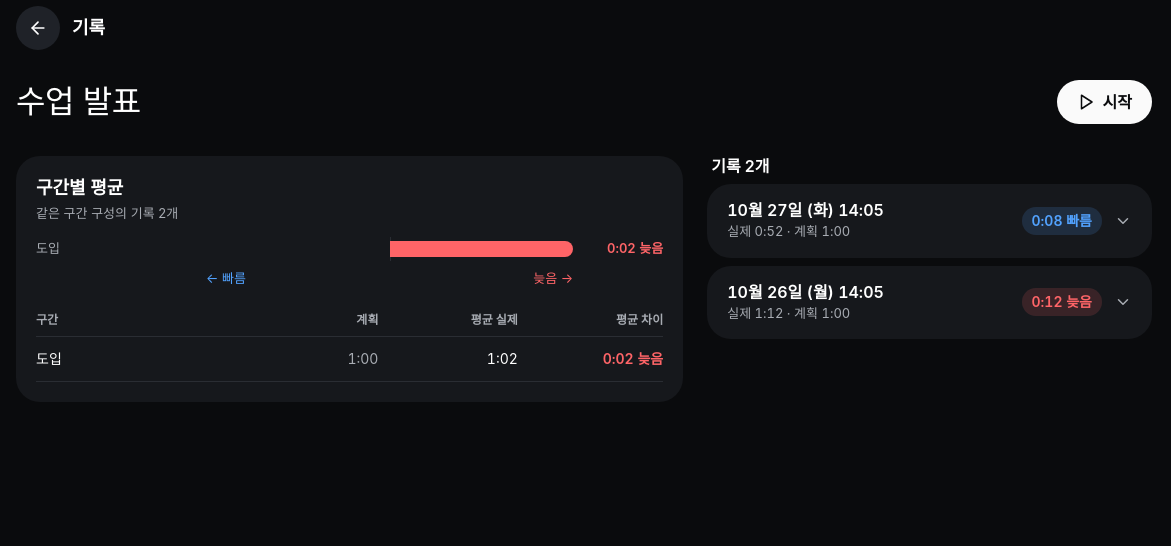
RecordsView › lists newest first with totals and the whole-run verdict, expanding one record in place
Click the button "10월 27일 (화) 14:05 실제 0:52 · 계획 1:00 0:08 빠름" at point(806, 210), box [707,184,1152,258]
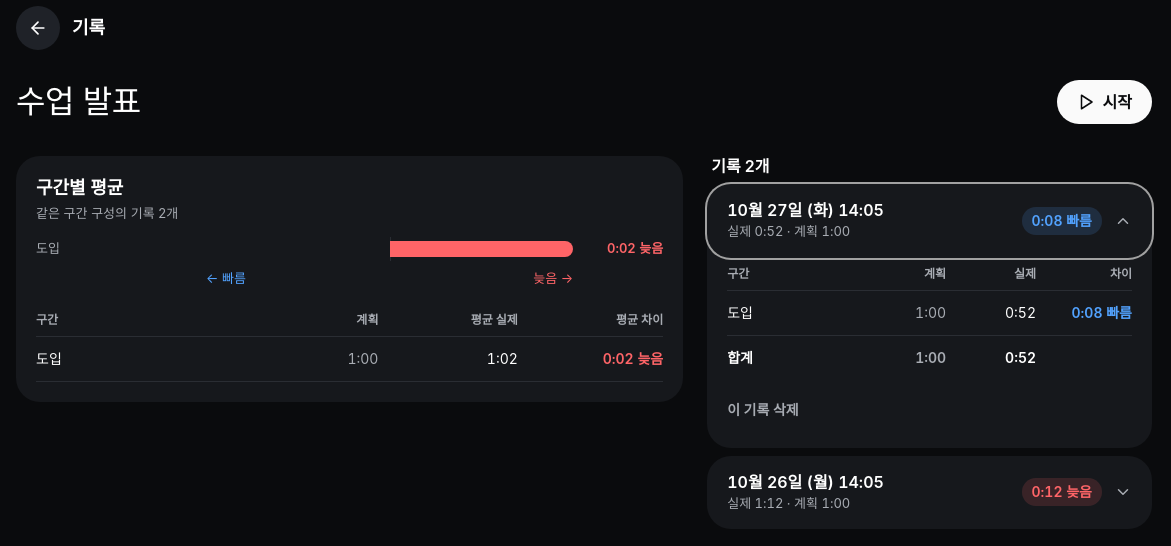
expect the button "10월 27일 (화) 14:05 실제 0:52 · 계획 1:00 0:08 빠름" is expanded: met, box [707,184,1152,258]
expect the text "0:08 빠름" is shown: met, box [1042,290,1132,335]
Click the button "10월 26일 (월) 14:05 실제 1:12 · 계획 1:00 0:12 늦음" at point(806, 482), box [707,456,1152,529]
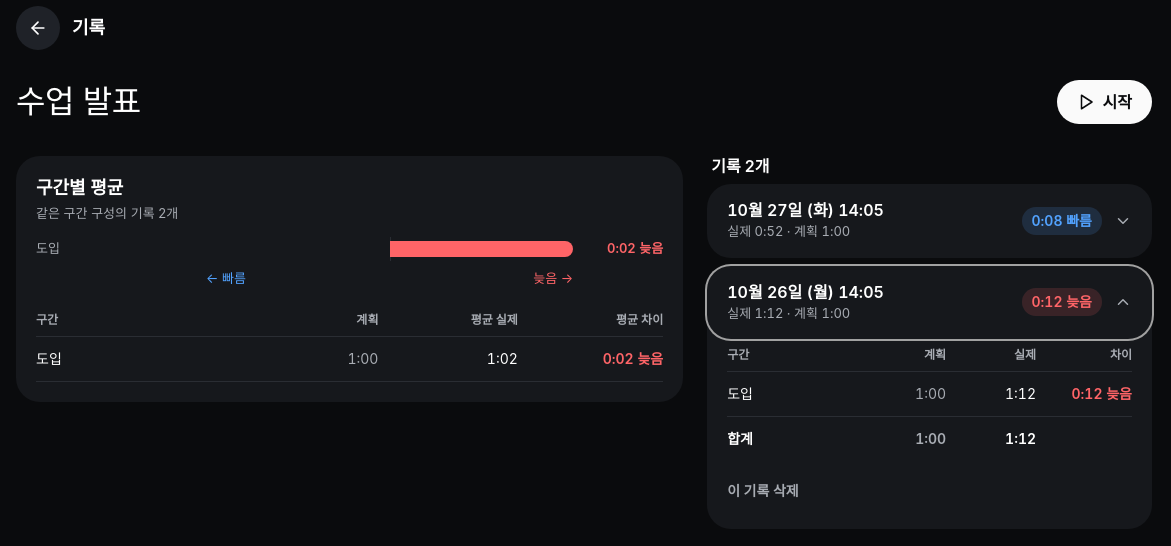
expect the button "10월 27일 (화) 14:05 실제 0:52 · 계획 1:00 0:08 빠름" is collapsed: met, box [707,184,1152,258]
Click the button "10월 26일 (월) 14:05 실제 1:12 · 계획 1:00 0:12 늦음" at point(806, 292), box [707,266,1152,339]
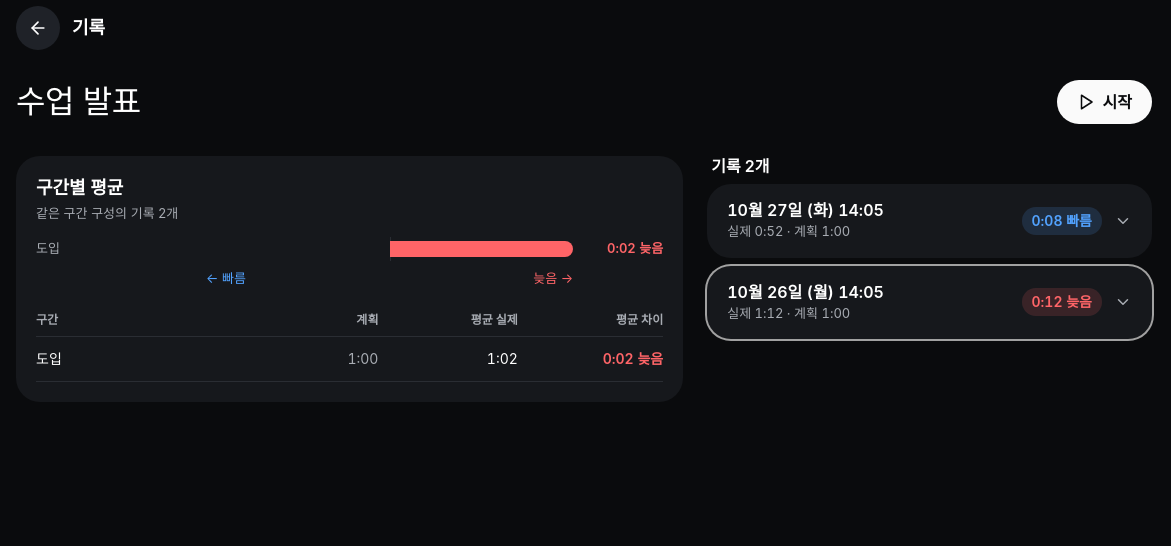
expect the button "10월 26일 (월) 14:05 실제 1:12 · 계획 1:00 0:12 늦음" is collapsed: met, box [707,266,1152,339]
